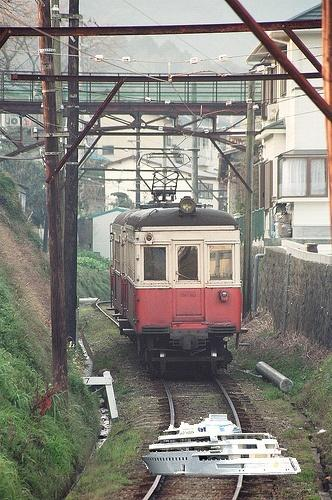tampered: (142, 415, 301, 475)
